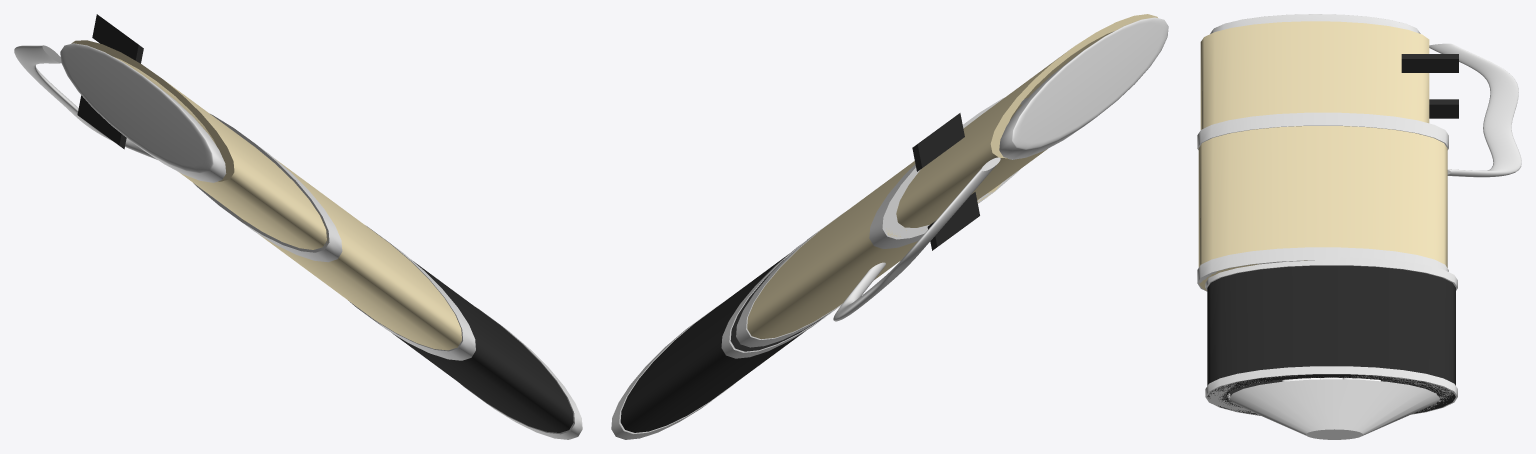
The model's file is pen.glb.
3 views of the same model, side by side, from view 1: azimuth 30°, elevation 25°; view 2: azimuth 150°, elevation 25°; view 3: azimuth 270°, elevation 25° (orthographic). The views are drawn at different scales.
Visible parts, largest first — view 1: barrel_fitted, button_fitted, rear_housing_fitted, grip_fitted, lower_collar.001_fitted, clip_fitted, lower_collar_fitted, raised_block.002_fitted, lower_collar.002_fitted, raised_block.001_fitted; view 2: barrel_fitted, button_fitted, grip_fitted, rear_housing_fitted, clip_fitted, lower_collar.001_fitted, raised_block.002_fitted, lower_collar_fitted, lower_collar.002_fitted, lower_collar.003_fitted, raised_block.001_fitted; view 3: barrel_fitted, grip_fitted, rear_housing_fitted, writing_taper_fitted, clip_fitted, lower_collar.002_fitted, lower_collar.001_fitted, lower_collar_fitted, lower_collar.003_fitted, button_fitted, raised_block.002_fitted, raised_block.001_fitted.
Boxes of the visible parts, left/top/right/bottom form: barrel_fitted: left=198, top=122, right=461, bottom=350; button_fitted: left=60, top=43, right=226, bottom=182; rear_housing_fitted: left=71, top=40, right=326, bottom=249; grip_fitted: left=392, top=261, right=573, bottom=432; lower_collar.001_fitted: left=193, top=114, right=342, bottom=262; clip_fitted: left=14, top=45, right=157, bottom=159; lower_collar_fitted: left=350, top=226, right=475, bottom=360; raised_block.002_fitted: left=92, top=14, right=143, bottom=63; lower_collar.002_fitted: left=460, top=307, right=582, bottom=439; raised_block.001_fitted: left=77, top=95, right=126, bottom=149; barrel_fitted: left=747, top=104, right=1021, bottom=339; button_fitted: left=999, top=17, right=1168, bottom=159; grip_fitted: left=620, top=254, right=822, bottom=432; rear_housing_fitted: left=896, top=14, right=1157, bottom=227; clip_fitted: left=833, top=157, right=1000, bottom=321; lower_collar.001_fitted: left=869, top=97, right=1027, bottom=248; raised_block.002_fitted: left=912, top=113, right=964, bottom=171; lower_collar_fitted: left=736, top=212, right=844, bottom=347; lower_collar.002_fitted: left=611, top=305, right=737, bottom=439; lower_collar.003_fitted: left=721, top=240, right=841, bottom=358; raised_block.001_fitted: left=927, top=192, right=979, bottom=250; barrel_fitted: left=1198, top=126, right=1447, bottom=290; grip_fitted: left=1207, top=265, right=1455, bottom=414; rear_housing_fitted: left=1200, top=21, right=1429, bottom=129; writing_taper_fitted: left=1229, top=379, right=1439, bottom=439; clip_fitted: left=1429, top=43, right=1521, bottom=177; lower_collar.002_fitted: left=1205, top=366, right=1457, bottom=415; lower_collar.001_fitted: left=1197, top=112, right=1448, bottom=149; lower_collar_fitted: left=1197, top=247, right=1448, bottom=291; lower_collar.003_fitted: left=1205, top=257, right=1457, bottom=290; button_fitted: left=1210, top=14, right=1420, bottom=33; raised_block.002_fitted: left=1401, top=54, right=1458, bottom=72; raised_block.001_fitted: left=1429, top=99, right=1458, bottom=118.
Bounding box in the file's own units: 1 × 1 × 1.
